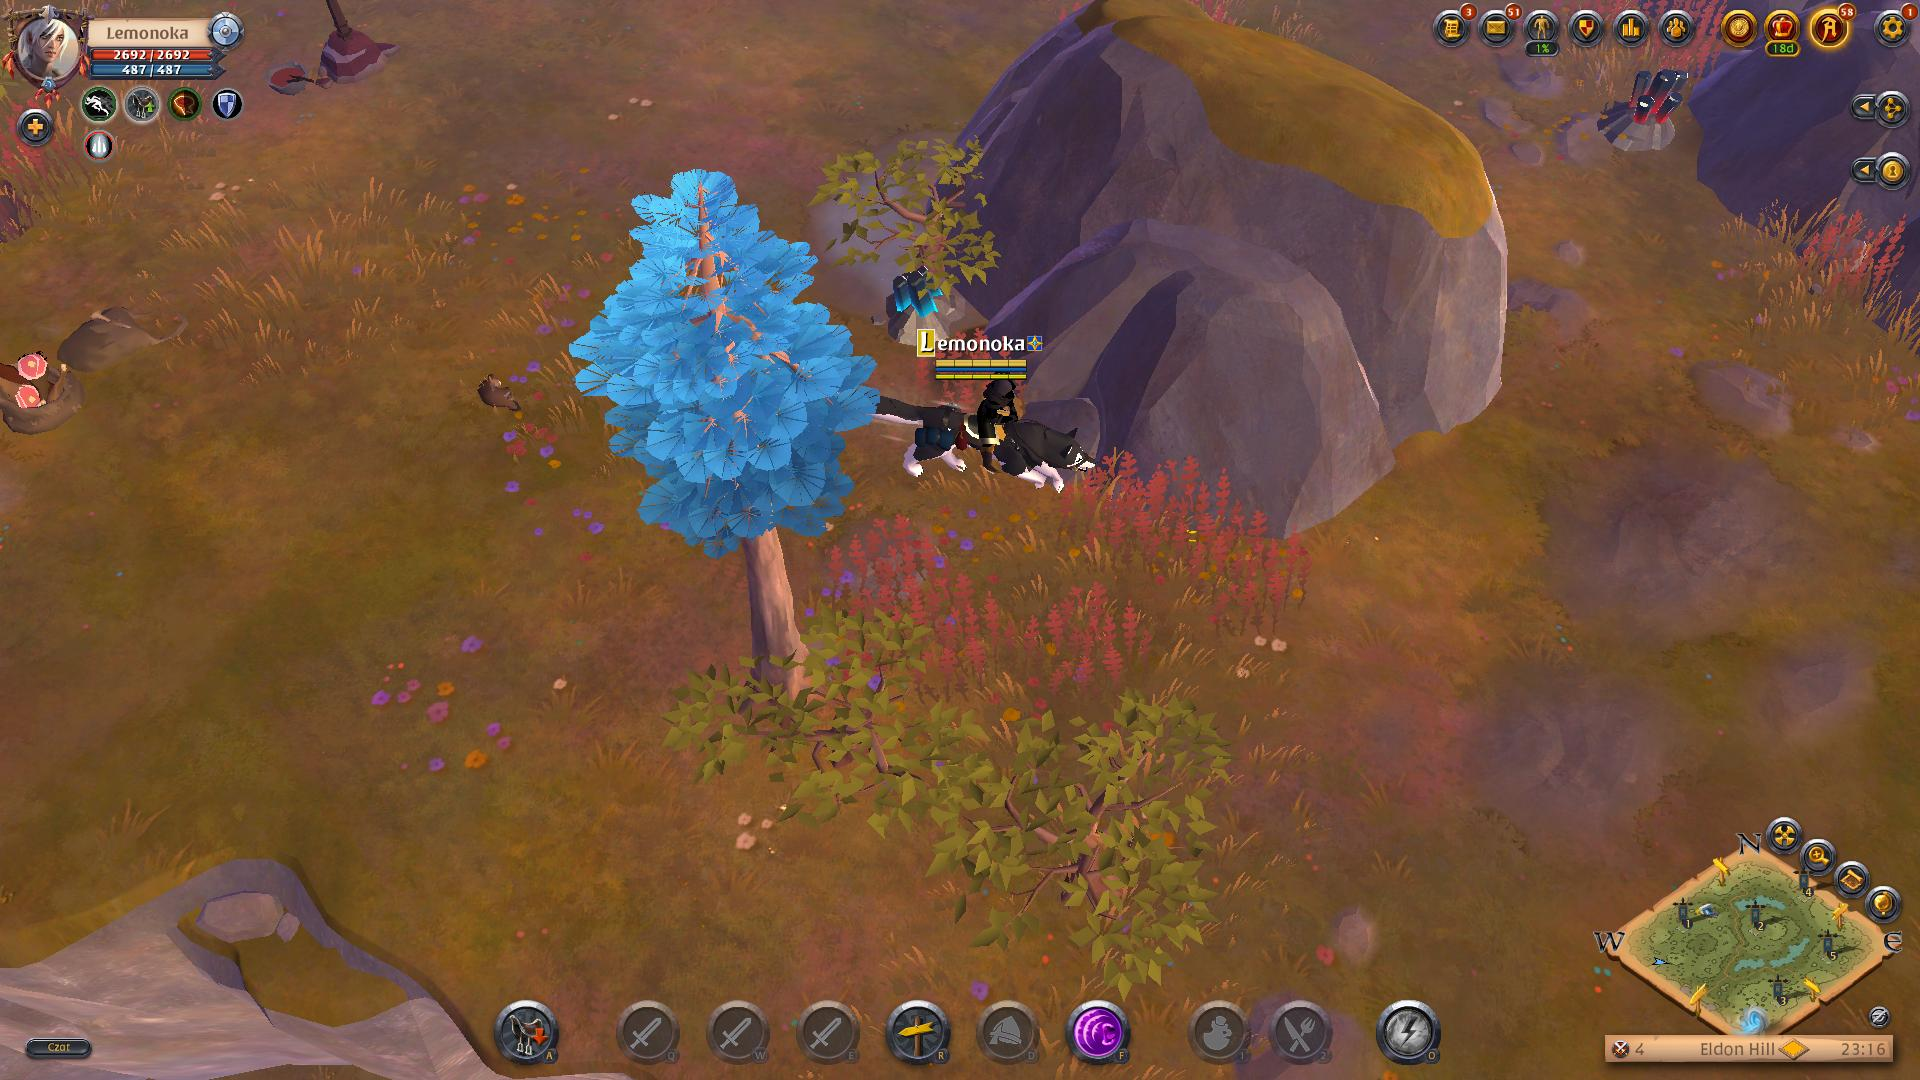ore tier 4: (877, 264, 956, 349)
wood tier 4: (570, 165, 885, 555)
